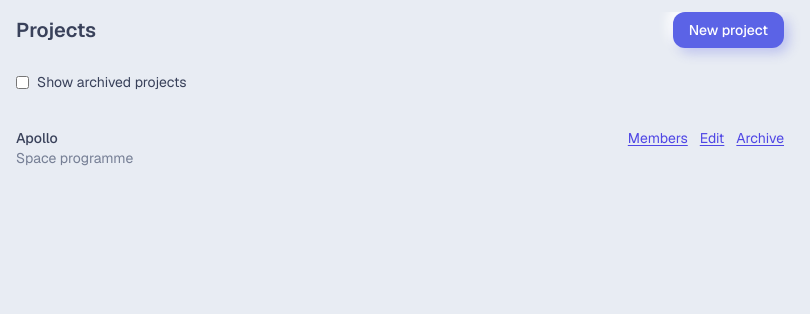
Scenario: ProjectsPage › unassigns a member
The width and height of the screenshot is (810, 314).
Click the button "Members": (658, 138) x1=628 y1=128 x2=688 y2=148
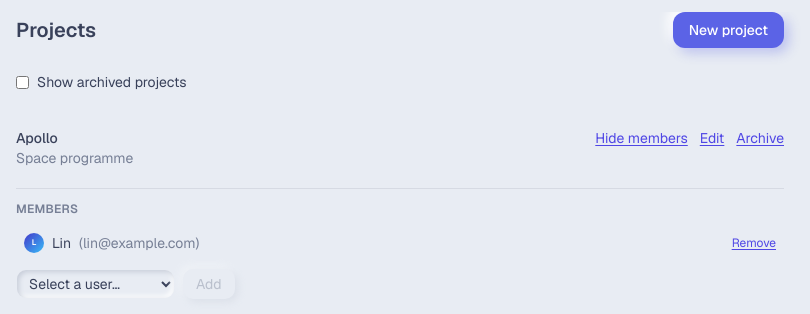
Check: the text "(lin@example.com)" is shown, box x1=79 y1=233 x2=199 y2=253
Click the button "Remove": (754, 243) x1=732 y1=235 x2=776 y2=251
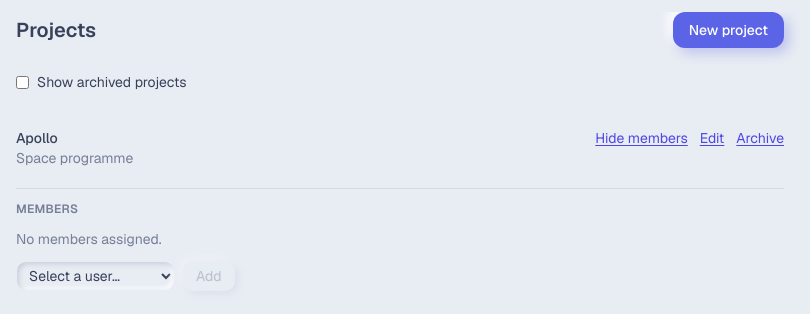
Check: the text "lin@example.com" is gone
